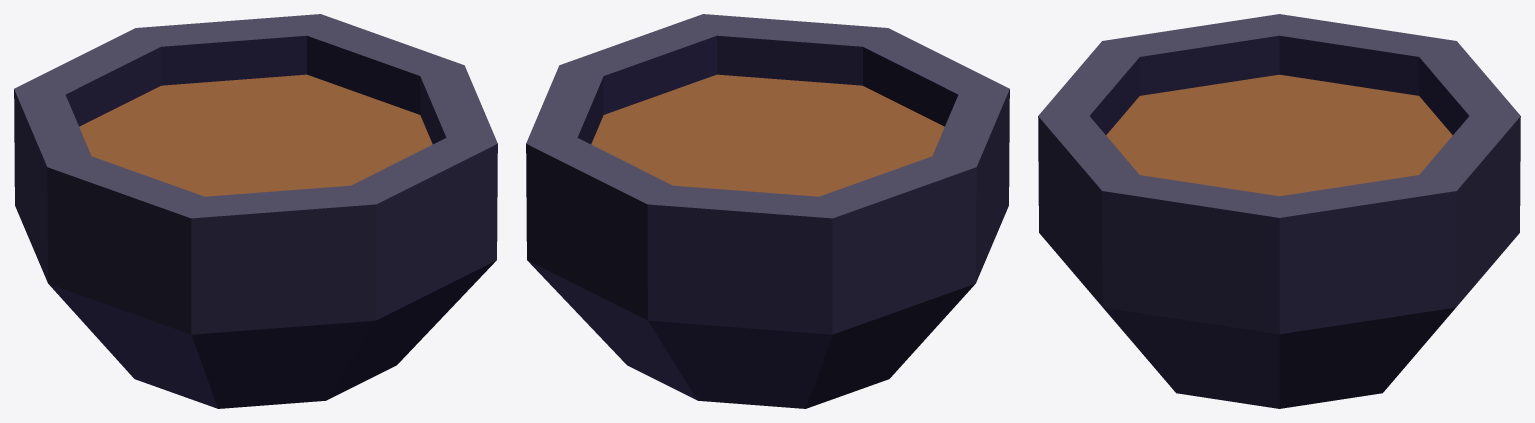
Rendered from pot5.fbx.
The picture shows the model from 3 angles, left to right: view 1: azimuth 30°, elevation 25°; view 2: azimuth 150°, elevation 25°; view 3: azimuth 270°, elevation 25°; orthographic projection.
Visible parts, largest first — view 1: pot5; view 2: pot5; view 3: pot5.
Boxes of the visible parts, bbox=[...] form: pot5: bbox=[14, 14, 497, 408]; pot5: bbox=[526, 14, 1009, 408]; pot5: bbox=[1038, 14, 1520, 408].
Bounding box in the file's own units: 27.4 × 14.63 × 27.4.
